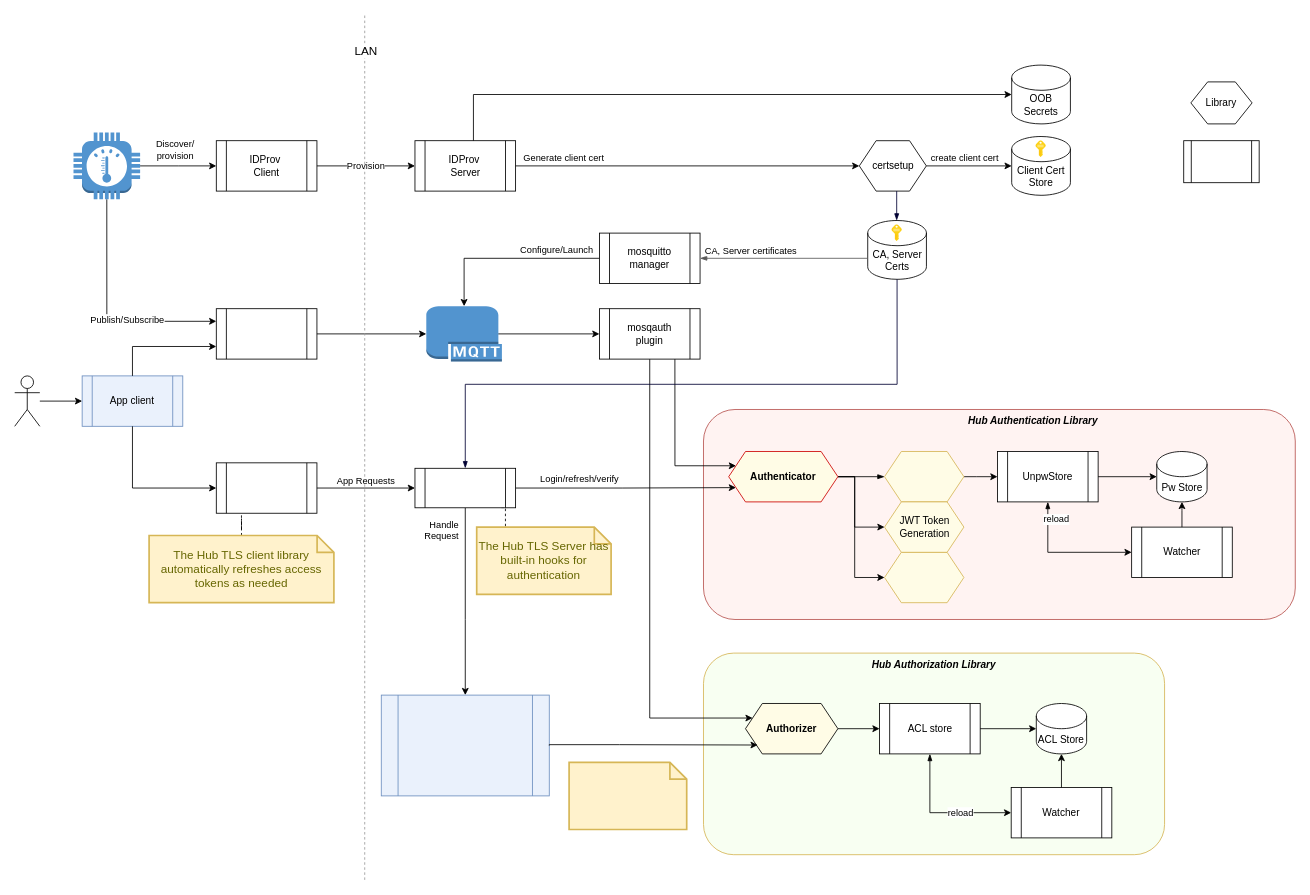
The diagram is 1310 pixels wide and 895 high, and some of its shapes have lost their labels. The centre of each missing label's shape, as x and y in pixels:
AppService (eg thingdir, ...): point (464, 745)
Authorization is invoked by the service: point (627, 795)
IoT device: point (106, 165)
JWT Token Verification: point (924, 577)
Mosquitto Broker: point (463, 333)
MQTT client: point (266, 333)
Password Hash Verification: point (924, 476)
Process: point (1221, 161)
TLS Client: point (266, 487)
TLS Server: point (465, 487)
User: point (27, 400)
